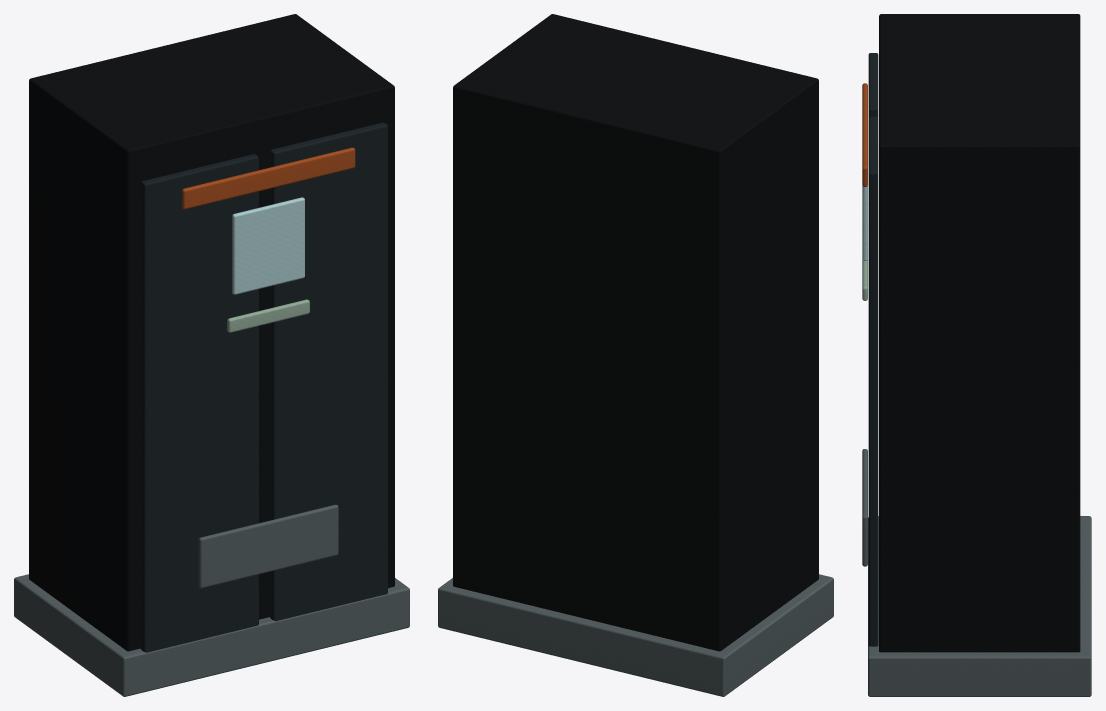
File: HazmatSuitLocker.fbx
3 renders of one model, left to right at view 1: azimuth 30°, elevation 25°; view 2: azimuth 150°, elevation 25°; view 3: azimuth 270°, elevation 25°, orthographic.
Parts seen in each view (by area): view 1: HazmatSuitLocker_Mesh; view 2: HazmatSuitLocker_Mesh; view 3: HazmatSuitLocker_Mesh.
Part boxes in pixels (x1,y1,x2,y2): HazmatSuitLocker_Mesh: (14,14,409,696); HazmatSuitLocker_Mesh: (438,14,833,696); HazmatSuitLocker_Mesh: (862,14,1091,696).
Bounding box in the file's own units: 120 × 216 × 82.
